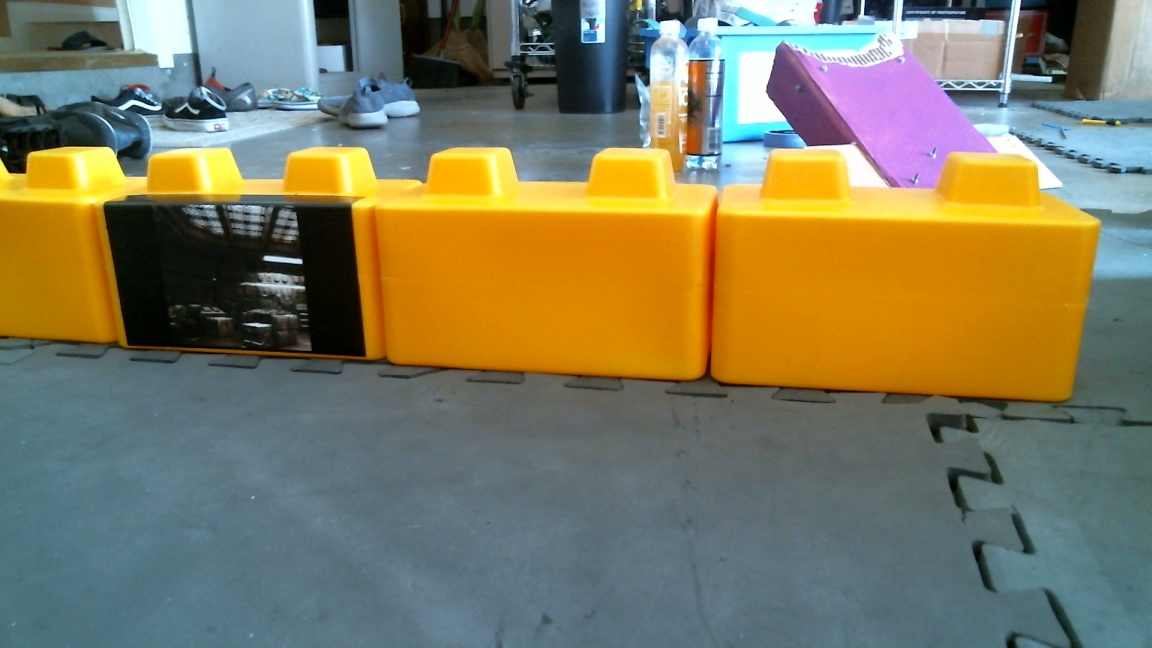left: (85, 156, 1108, 406)
